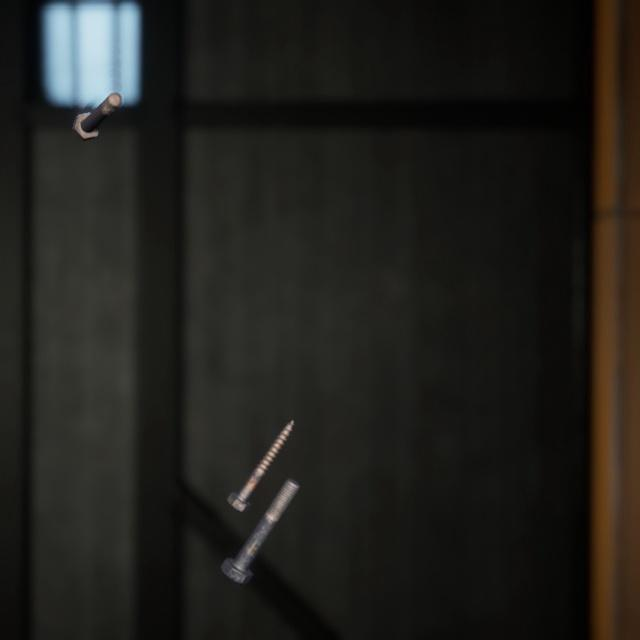bolt: (216, 451, 304, 566), (222, 394, 299, 495), (68, 75, 126, 133)
